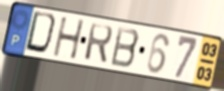6: (145, 31, 172, 75)
7: (174, 34, 199, 81)
B: (109, 25, 141, 70)
D: (23, 10, 60, 57)
H: (52, 16, 86, 62)
R: (82, 22, 114, 66)
